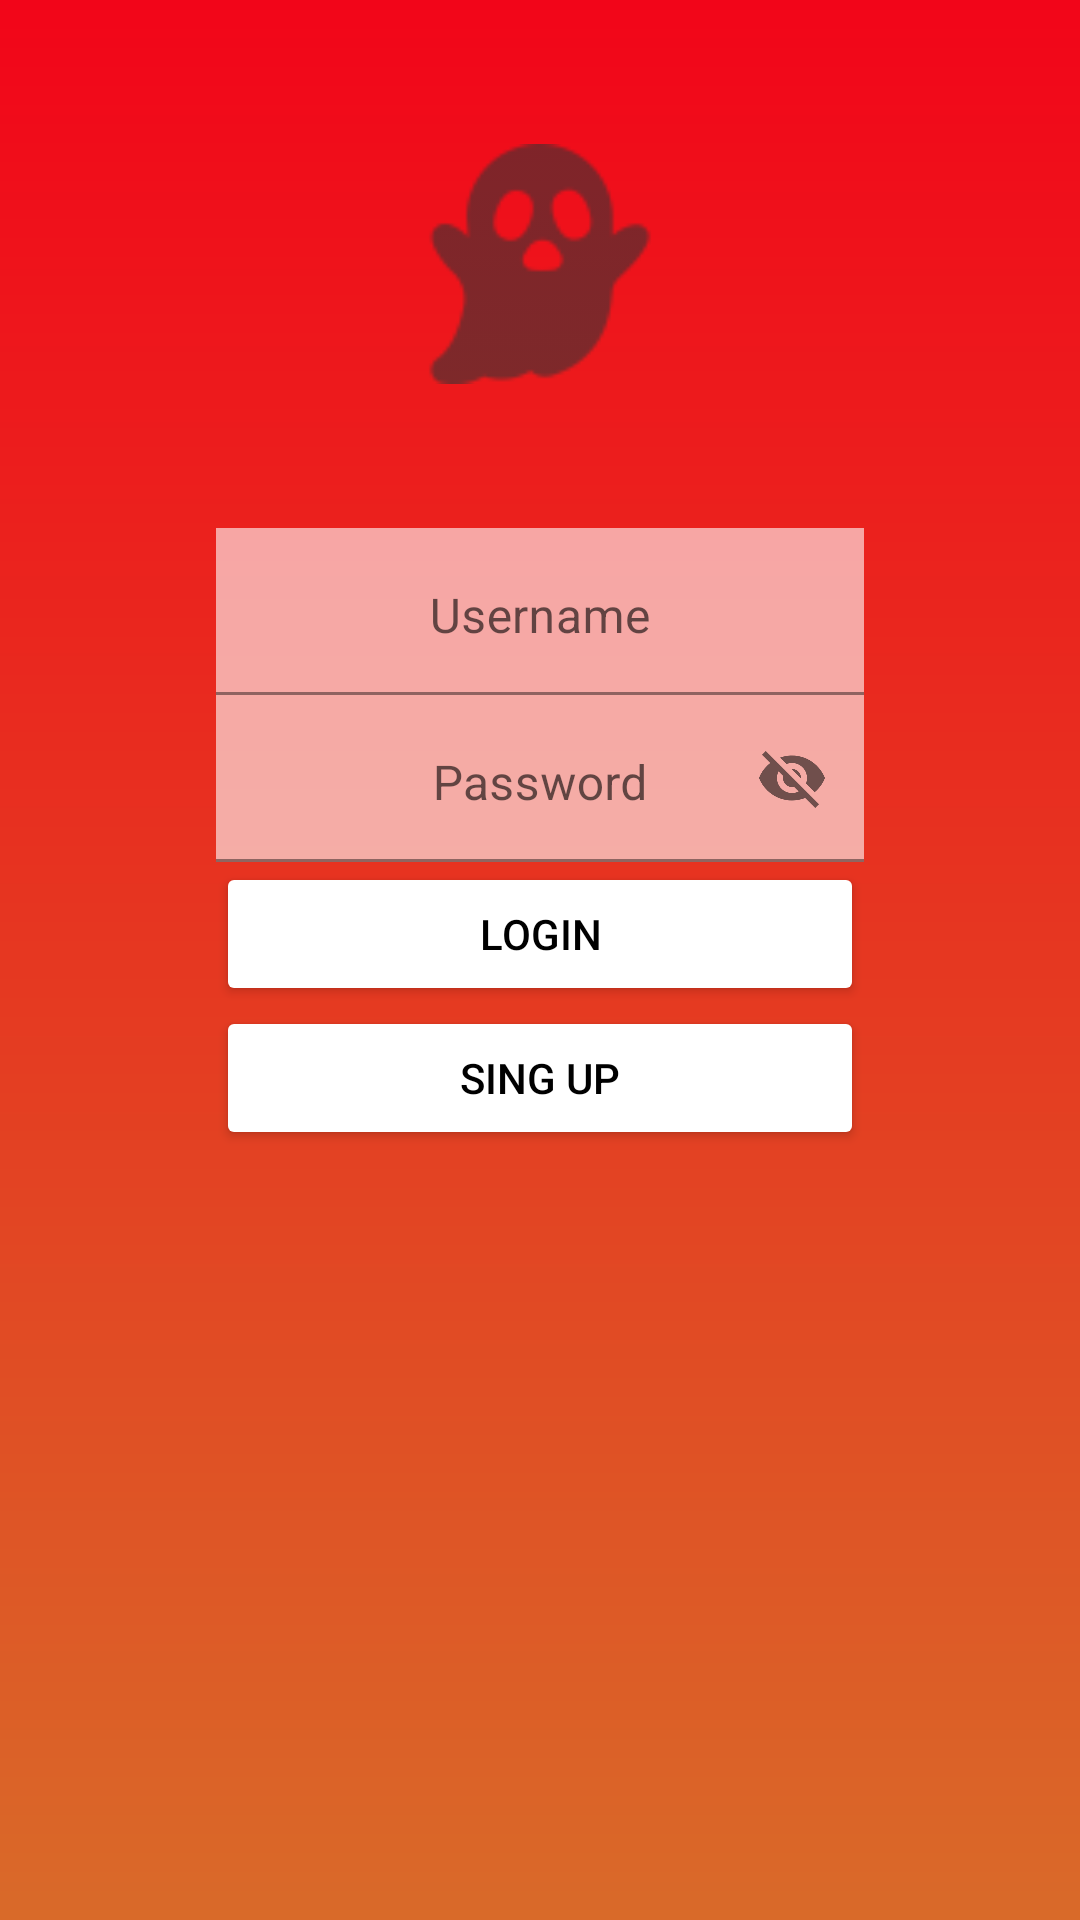

Icon bounding boxes for this 1080px x 1920px phone screenshot, format (x1, y1, x2, y2):
ghost action bar: (429, 144, 650, 384)
